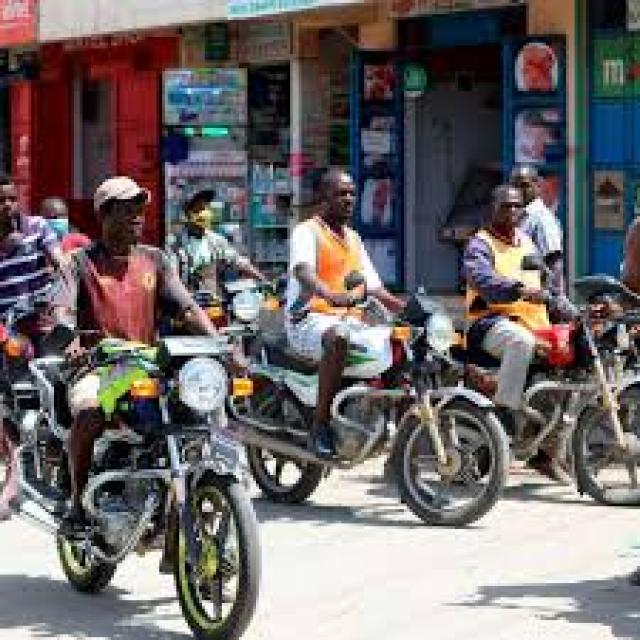bodaboda: (15, 266, 285, 640), (240, 219, 516, 564)
